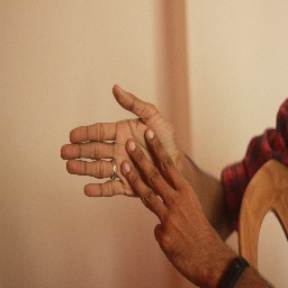M: (57, 77, 201, 223)
